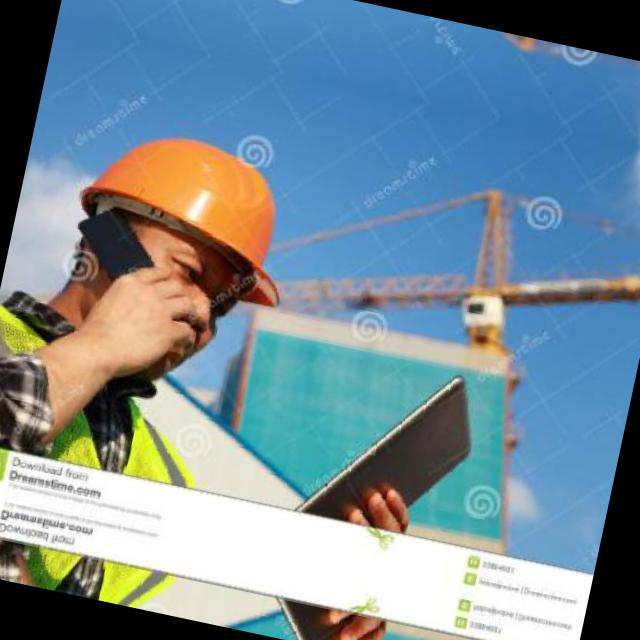helmet: (20, 87, 325, 399)
